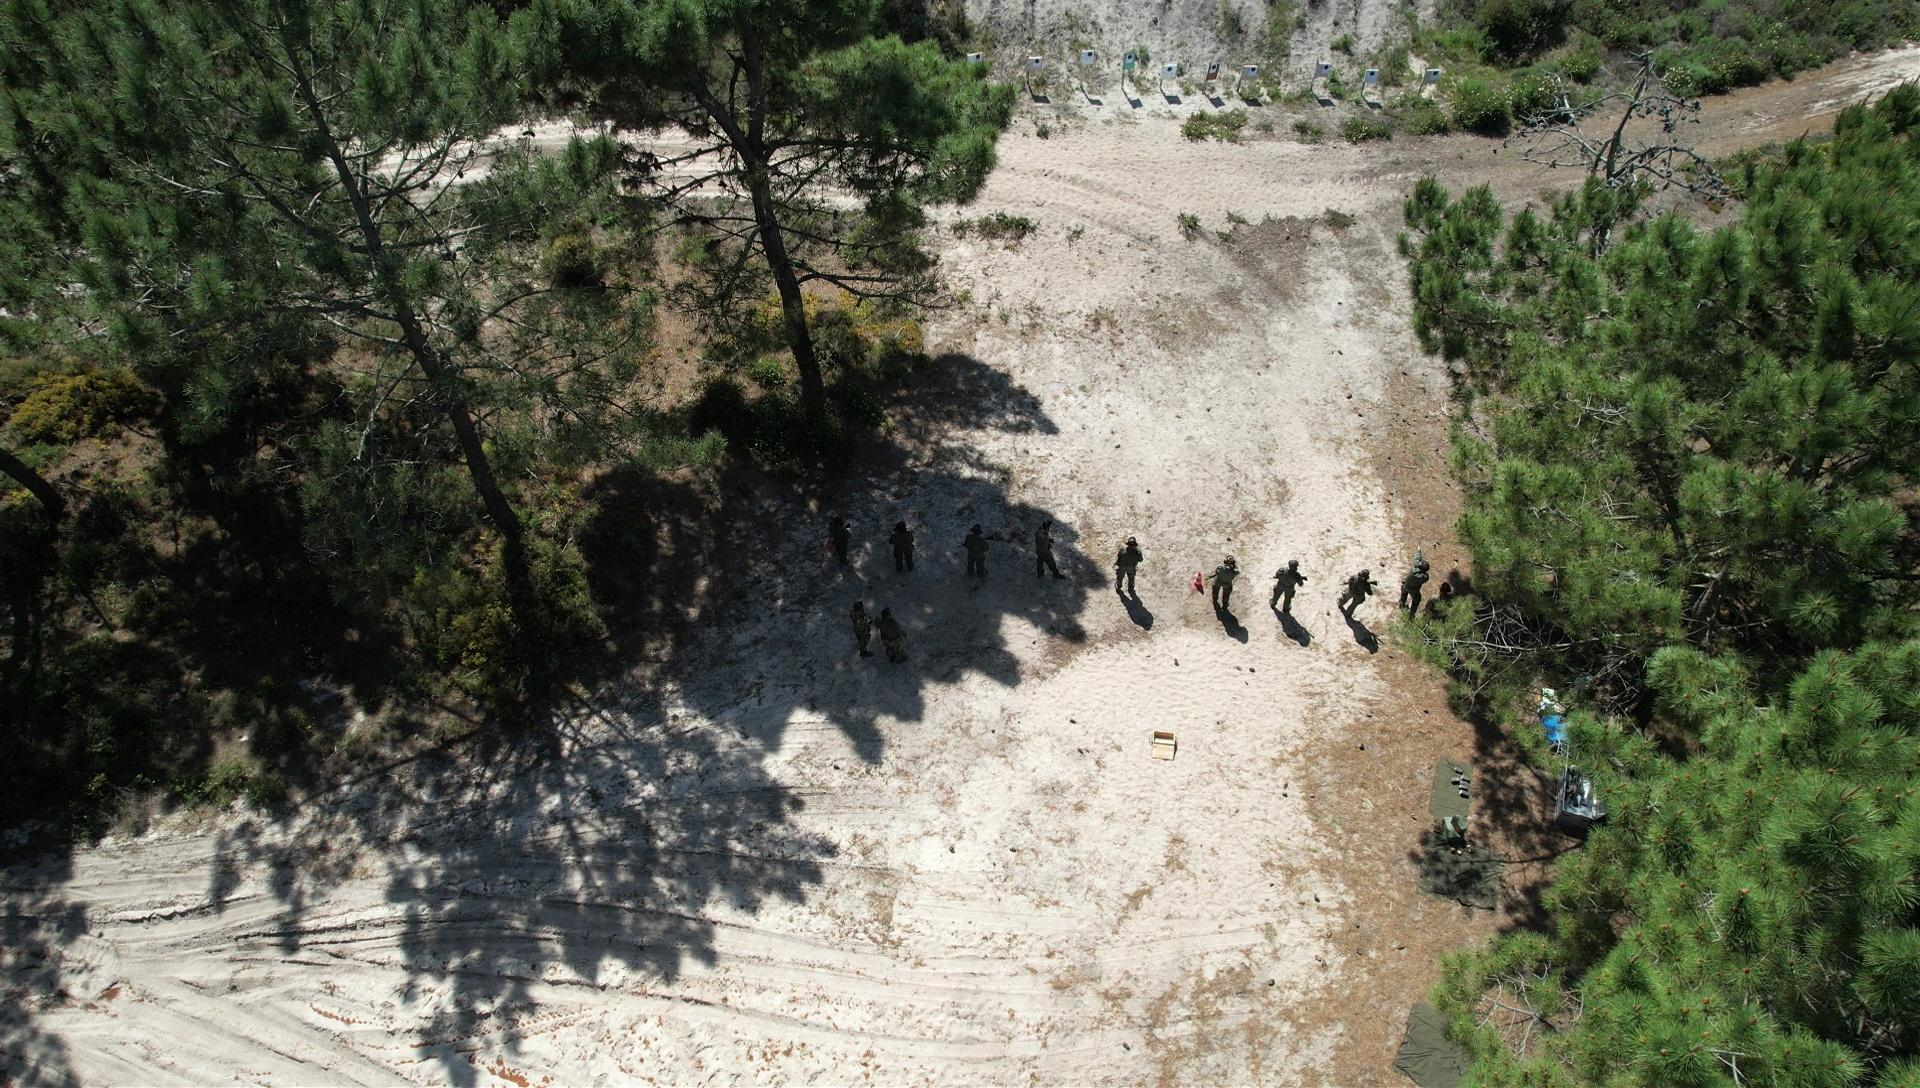Soldier: (1331, 563, 1381, 640), (862, 605, 913, 673), (1106, 528, 1149, 607), (1031, 512, 1072, 592), (845, 596, 890, 666), (956, 522, 998, 592), (1267, 558, 1308, 628), (1209, 554, 1244, 636), (1399, 539, 1433, 620), (822, 505, 857, 578), (887, 514, 919, 582)
